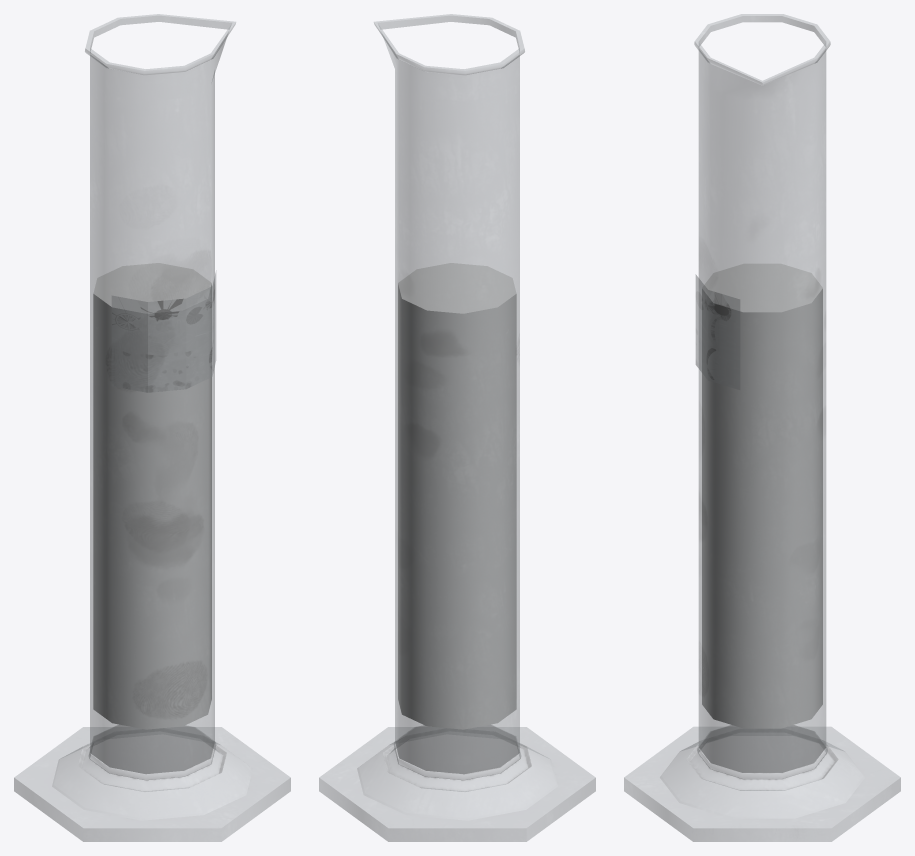
The model's file is TLLGraduatedCylinderWithLabel.glb.
The picture shows the model from 3 angles, left to right: view 1: azimuth 30°, elevation 25°; view 2: azimuth 150°, elevation 25°; view 3: azimuth 270°, elevation 25°; orthographic projection.
Parts seen in each view (by area): view 1: BeakerwOpacity, BeakerLiquid, Label; view 2: BeakerwOpacity, BeakerLiquid; view 3: BeakerwOpacity, BeakerLiquid, Label.
Boxes of the visible parts, bbox=[...] form: BeakerwOpacity: bbox=[14, 14, 290, 841]; BeakerLiquid: bbox=[93, 263, 211, 729]; Label: bbox=[112, 273, 215, 392]; BeakerwOpacity: bbox=[319, 14, 595, 841]; BeakerLiquid: bbox=[398, 263, 516, 729]; BeakerwOpacity: bbox=[624, 14, 900, 841]; BeakerLiquid: bbox=[702, 263, 822, 728]; Label: bbox=[696, 275, 739, 389].
Bounding box in the file's own units: 0.087 × 0.3 × 0.1004.
Materials: 2 (1 with a texture image).
